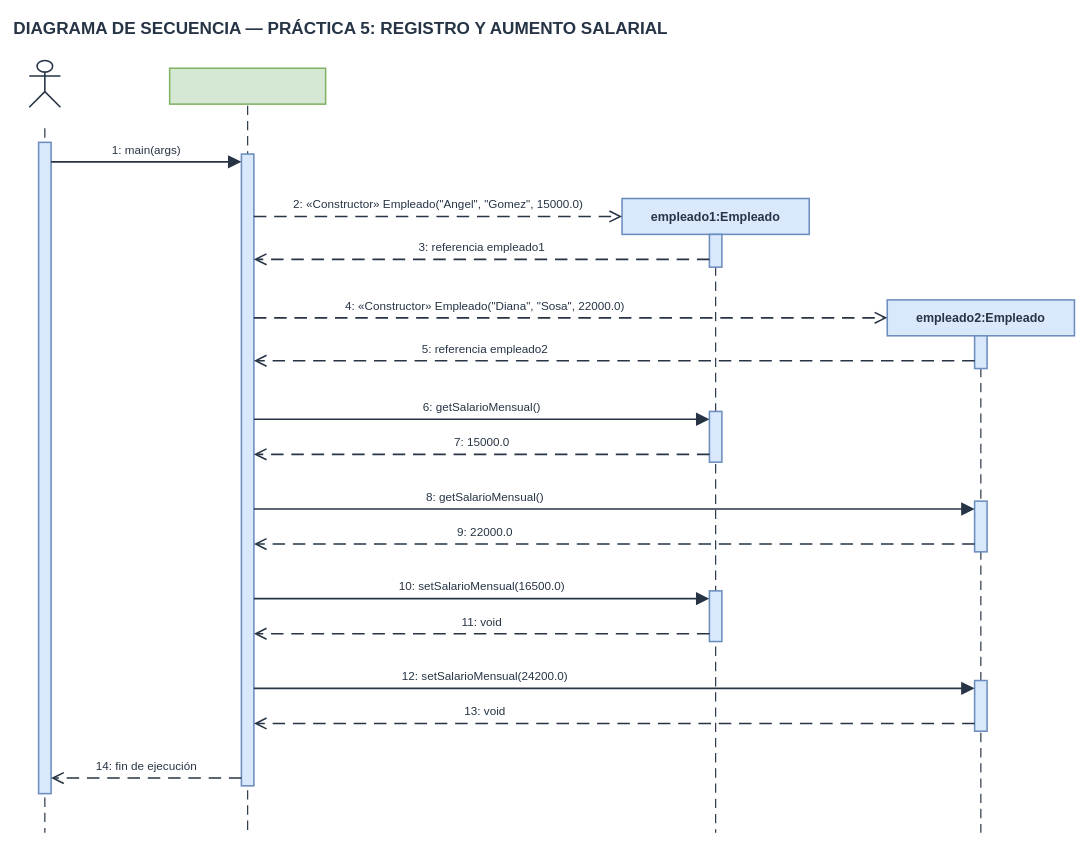
Some shapes in this 1088 by 847 pixel diagram are drawn without their labels. Each missing label, with the box of its shape:
MainEmpleado: (168, 67, 326, 105)
Usuario: (28, 59, 61, 108)
